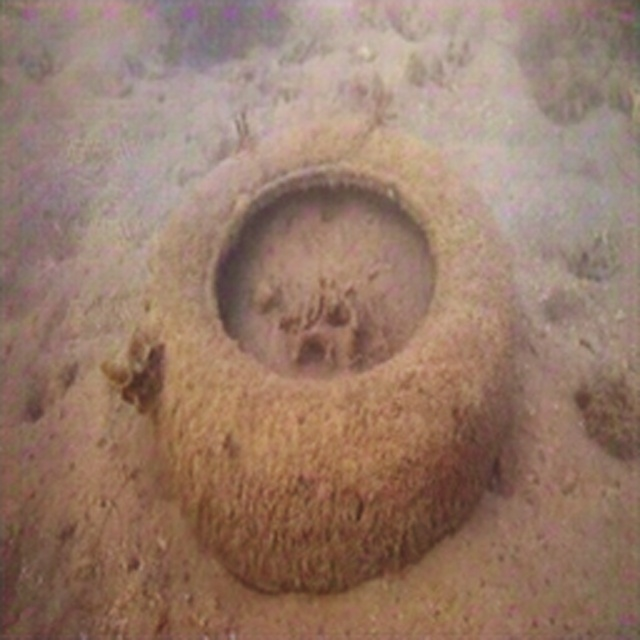mine: (135, 119, 514, 592)
